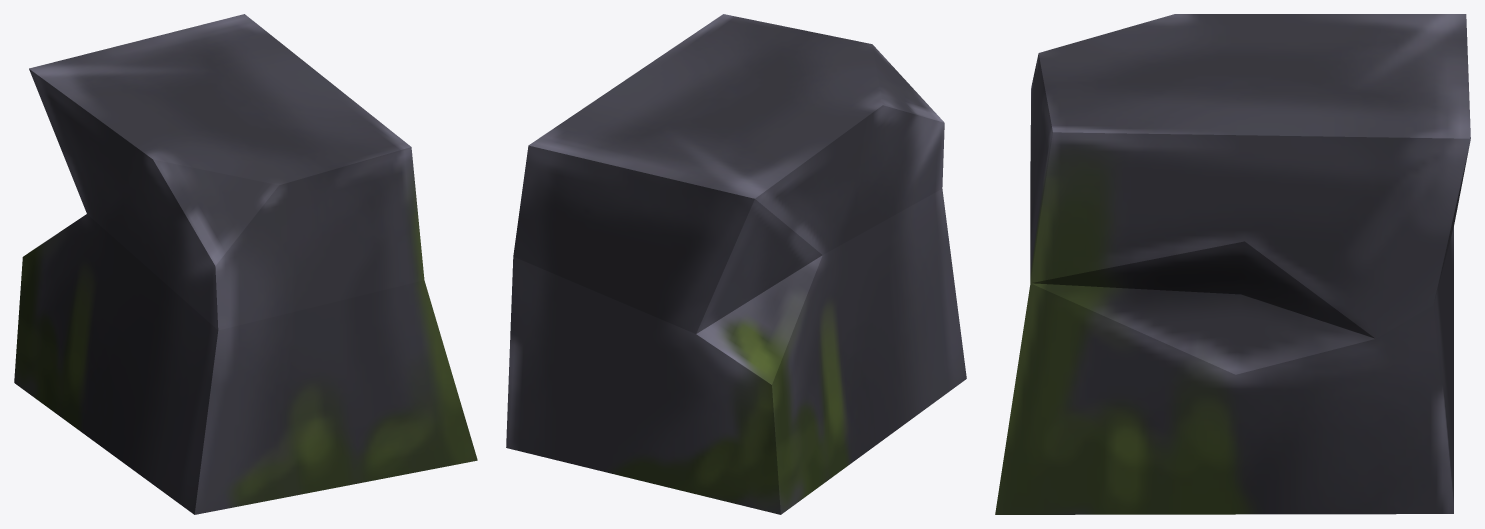
Rendered from Block1.fbx.
3 renders of one model, left to right at view 1: azimuth 30°, elevation 25°; view 2: azimuth 150°, elevation 25°; view 3: azimuth 270°, elevation 25°, orthographic. The views are drawn at different scales.
Visible parts, largest first — view 1: Rock; view 2: Rock; view 3: Rock.
Part boxes in pixels (box(x1,y1,x2,y2)): Rock: box(14, 14, 477, 514); Rock: box(506, 14, 966, 514); Rock: box(995, 14, 1470, 514).
Bounding box in the file's own units: 37.15 × 40.44 × 48.6.
